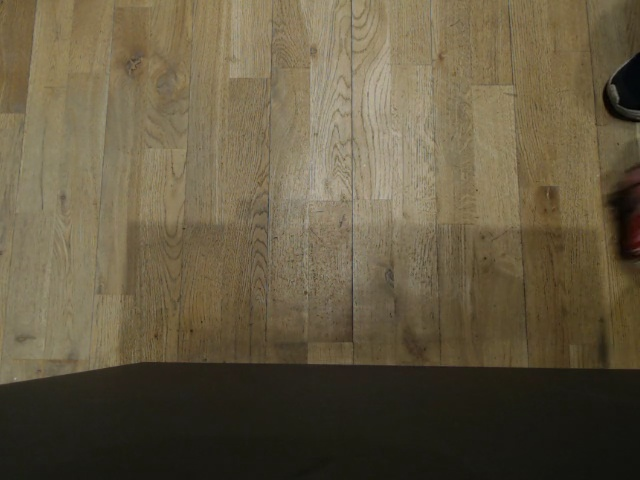cola: (620, 195, 640, 267)
